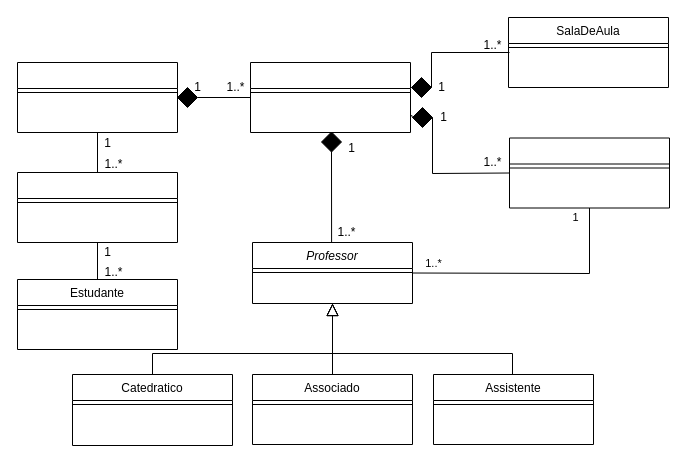
Image size: 687x463. Some labels were removed from this diagram. The shapes that lost their labels are listed below. From the top down, each one's centre as x and y in pixels, then its label:
point (97, 97): Universidade
point (330, 97): Departamento
point (589, 172): Escritorio
point (97, 207): Curso
